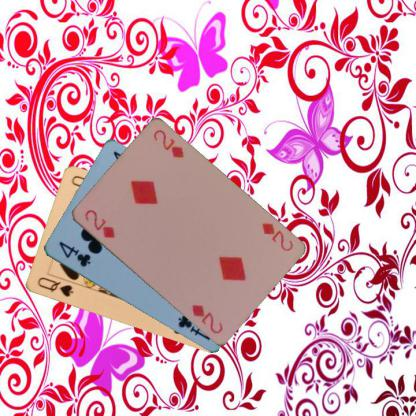2d: (259, 220, 294, 254), (82, 207, 116, 240)
4c: (55, 239, 92, 268)
Qs: (34, 274, 74, 299)
